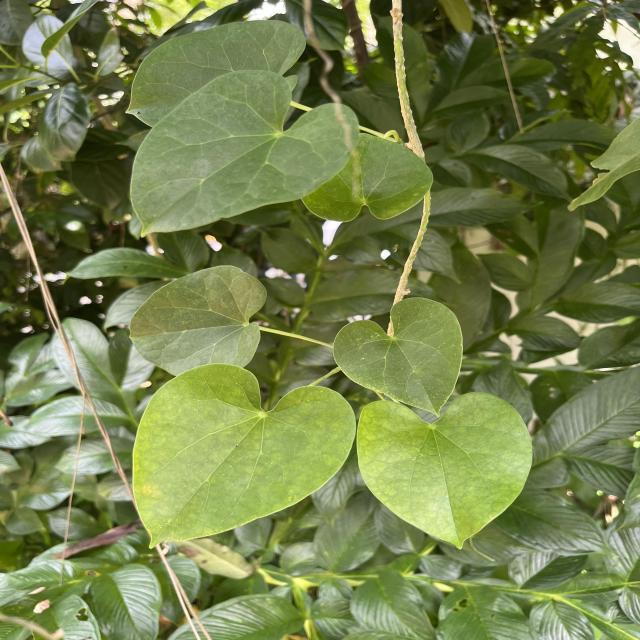Tinospora cordifolia: (130, 360, 358, 551), (126, 65, 363, 241), (354, 390, 536, 554), (330, 293, 466, 420), (124, 262, 270, 378)
